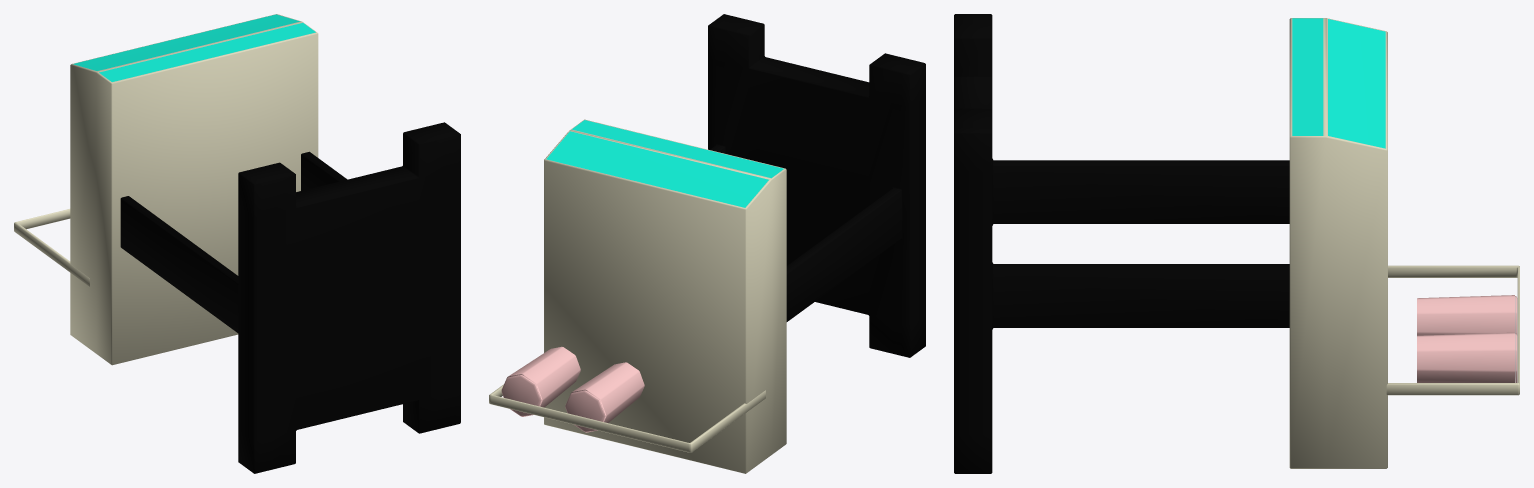
3 views of the same model, side by side, from view 1: azimuth 30°, elevation 25°; view 2: azimuth 150°, elevation 25°; view 3: azimuth 270°, elevation 25° (orthographic). The views are drawn at different scales.
Visible parts, largest first — view 1: Cube.002; view 2: Cube.002; view 3: Cube.002.
Part boxes in pixels (x1,y1,x2,y2): Cube.002: (14,14,460,473); Cube.002: (489,14,925,473); Cube.002: (954,14,1519,473).
Bounding box in the file's own units: 43.04 × 57.55 × 86.34.
